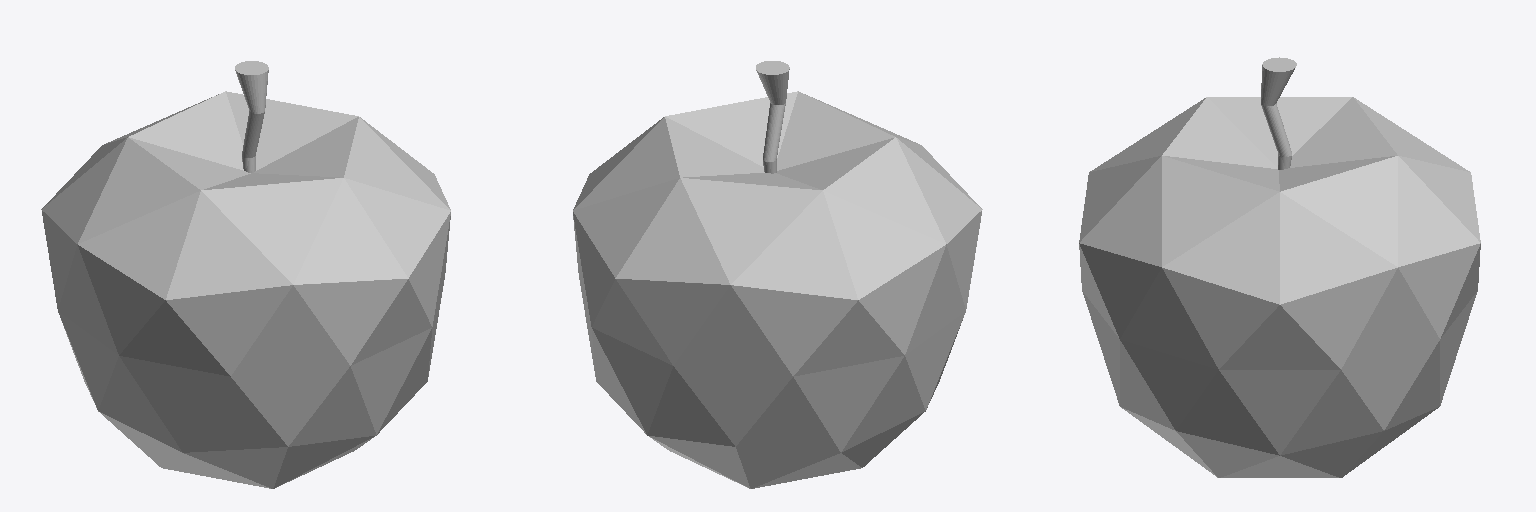
File: apple2.obj
The picture shows the model from 3 angles: view 1: azimuth 30°, elevation 25°; view 2: azimuth 150°, elevation 25°; view 3: azimuth 270°, elevation 25°; orthographic projection.
Visible parts, largest first — view 1: Esfera_geodésica; view 2: Esfera_geodésica; view 3: Esfera_geodésica.
Boxes of the visible parts, x1,y1,x2,y2 form: Esfera_geodésica: [41, 61, 450, 488]; Esfera_geodésica: [573, 61, 982, 488]; Esfera_geodésica: [1079, 57, 1480, 477].
Bounding box in the file's own units: 2.08 × 2.11 × 2.03.